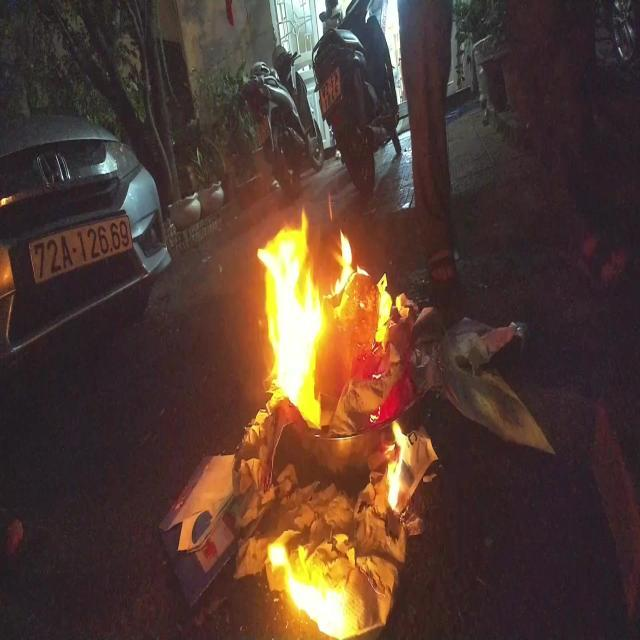Fire: (255, 186, 402, 434), (268, 541, 358, 639), (386, 422, 409, 514)
